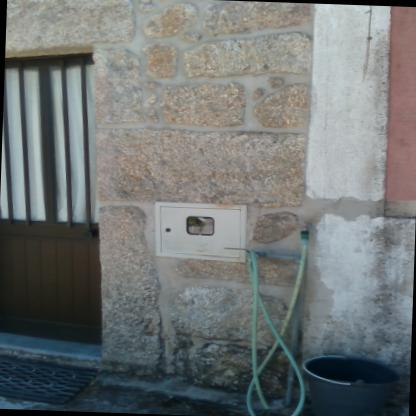closed: (0, 31, 111, 372)
